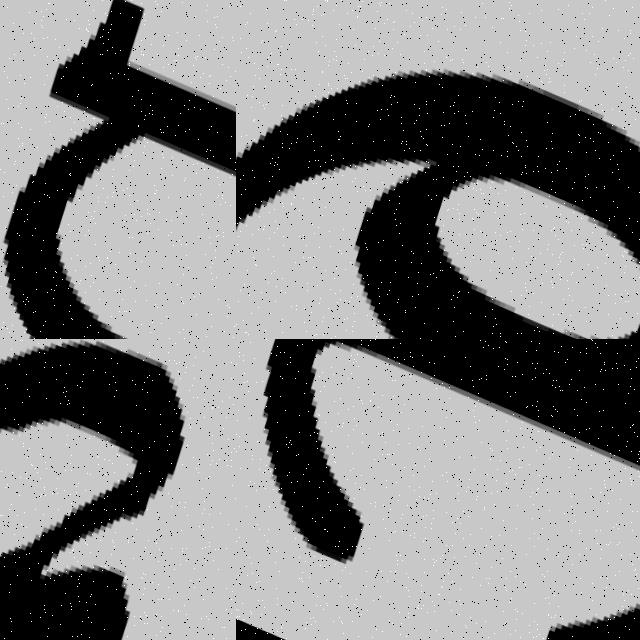6: (236, 0, 640, 339)
C: (259, 339, 640, 564)
P: (0, 0, 236, 339)
U: (0, 339, 228, 640)
